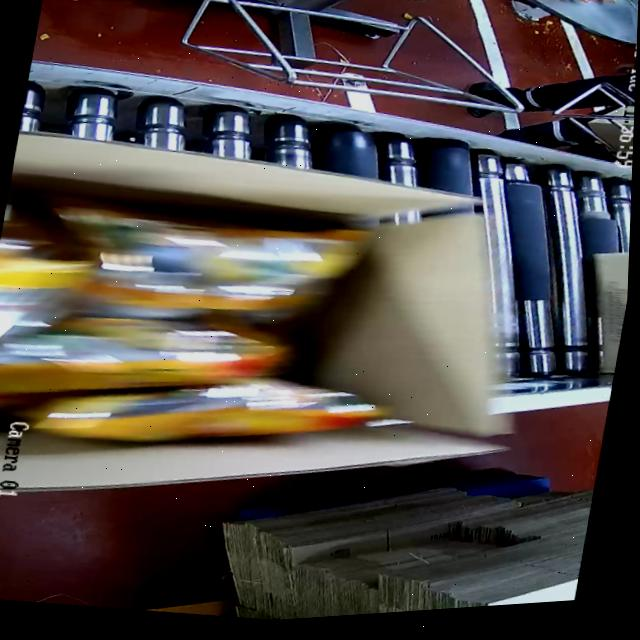FRENCH_CHEESE: (0, 160, 439, 483)
